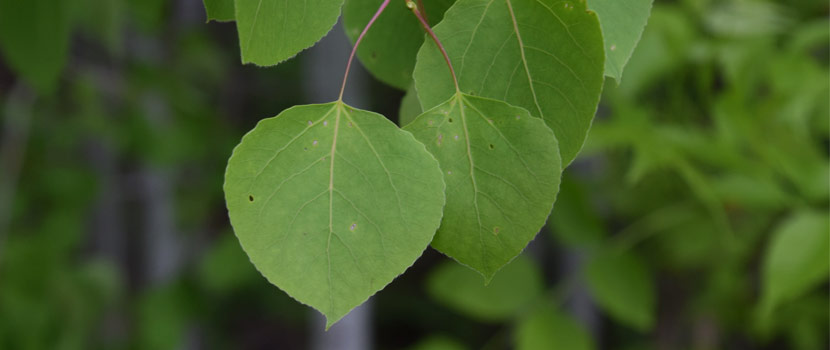healthy: (206, 104, 462, 314)
